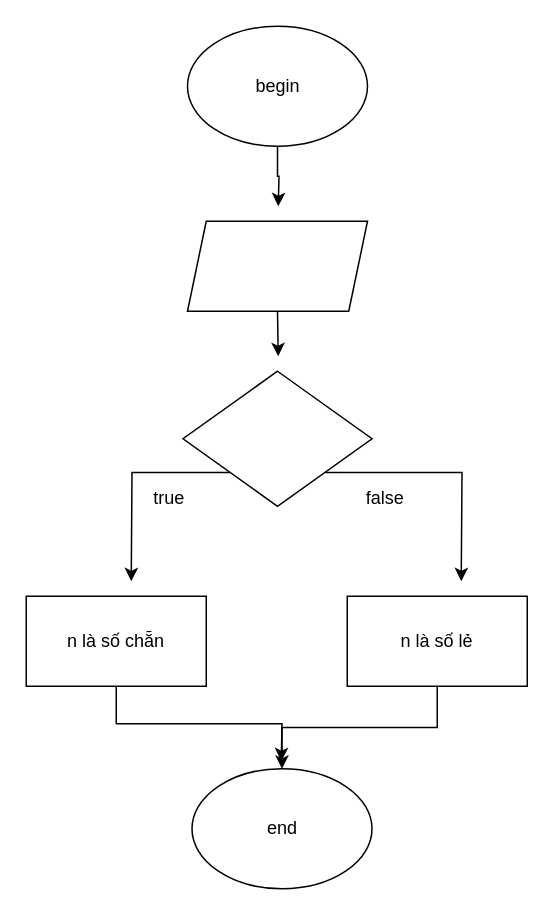
This 554x915 diagram has some shape labels left out. The centre of each missing label's shape, as x and y in pixels:
"n % 2== 0" belongs at (x=277, y=438).
"nhập vào số n" belongs at (x=277, y=265).
